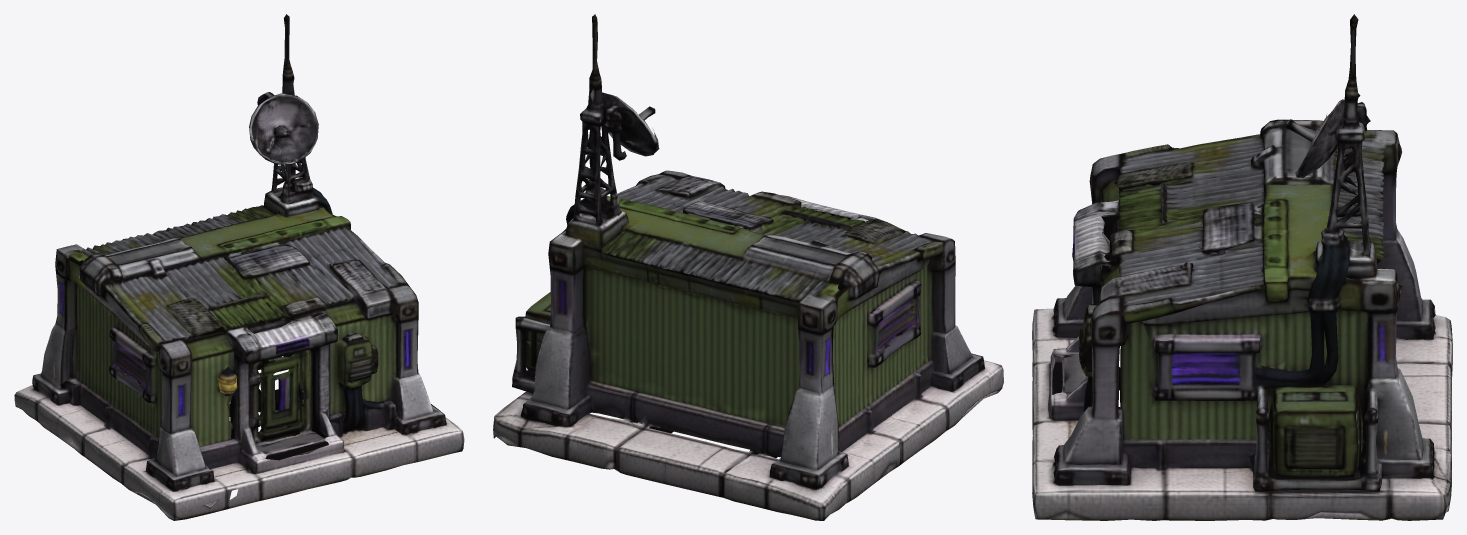
File: comms_l02.glb
The picture shows the model from 3 angles, left to right: view 1: azimuth 30°, elevation 25°; view 2: azimuth 150°, elevation 25°; view 3: azimuth 270°, elevation 25°; orthographic projection. The views are drawn at different scales.
Parts seen in each view (by area): view 1: world; view 2: world; view 3: world.
Part boxes in pixels (x1,y1,x2,y2): world: [14, 14, 464, 520]; world: [493, 14, 1003, 520]; world: [1032, 14, 1452, 520].
Size of the model in its own units: 0.8684 by 0.9929 by 0.8016.
Materials: 1 (1 with a texture image).
